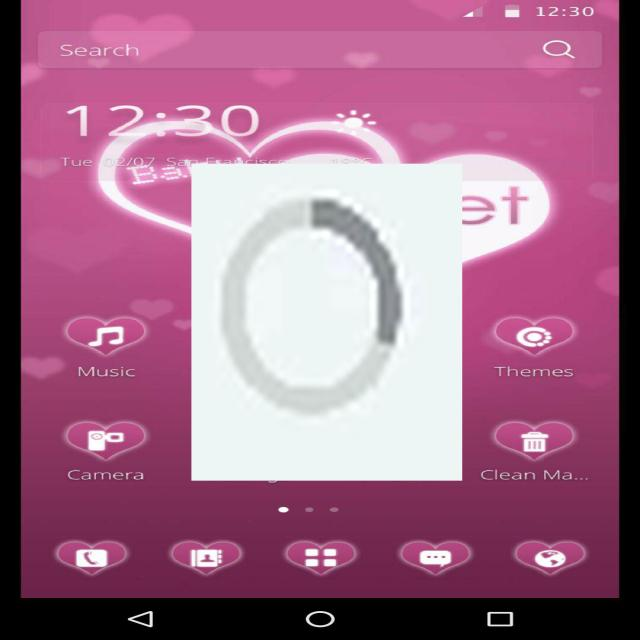misdirection: (192, 164, 462, 481)
